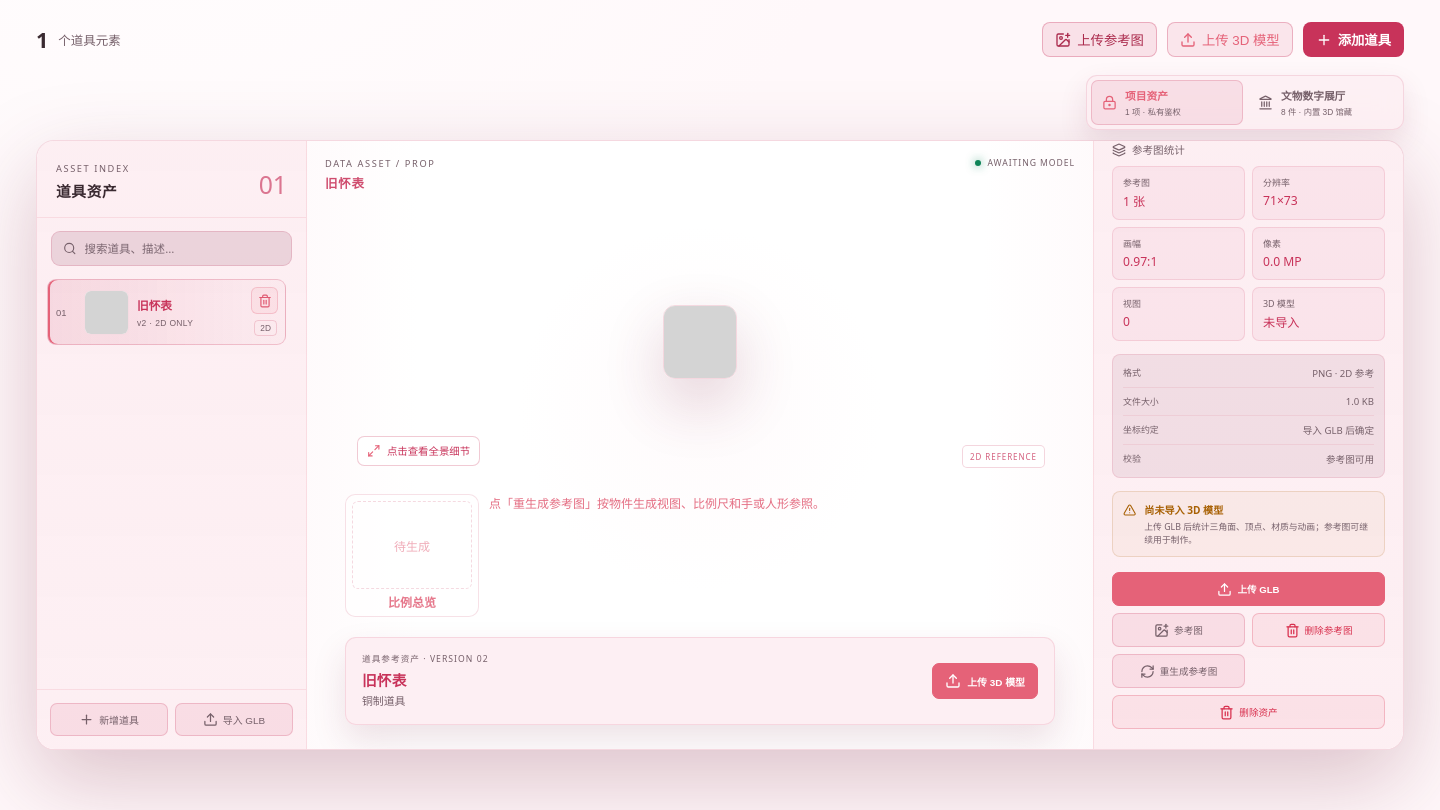
Test: ElementLibraryPage › deletes a selected reference image while keeping its asset available
(page scrolled)
What coordinates should you click on to do the following:
click the button "删除参考图"
I would click on:
 (1318, 630)
Its box is [1252,614,1385,648].
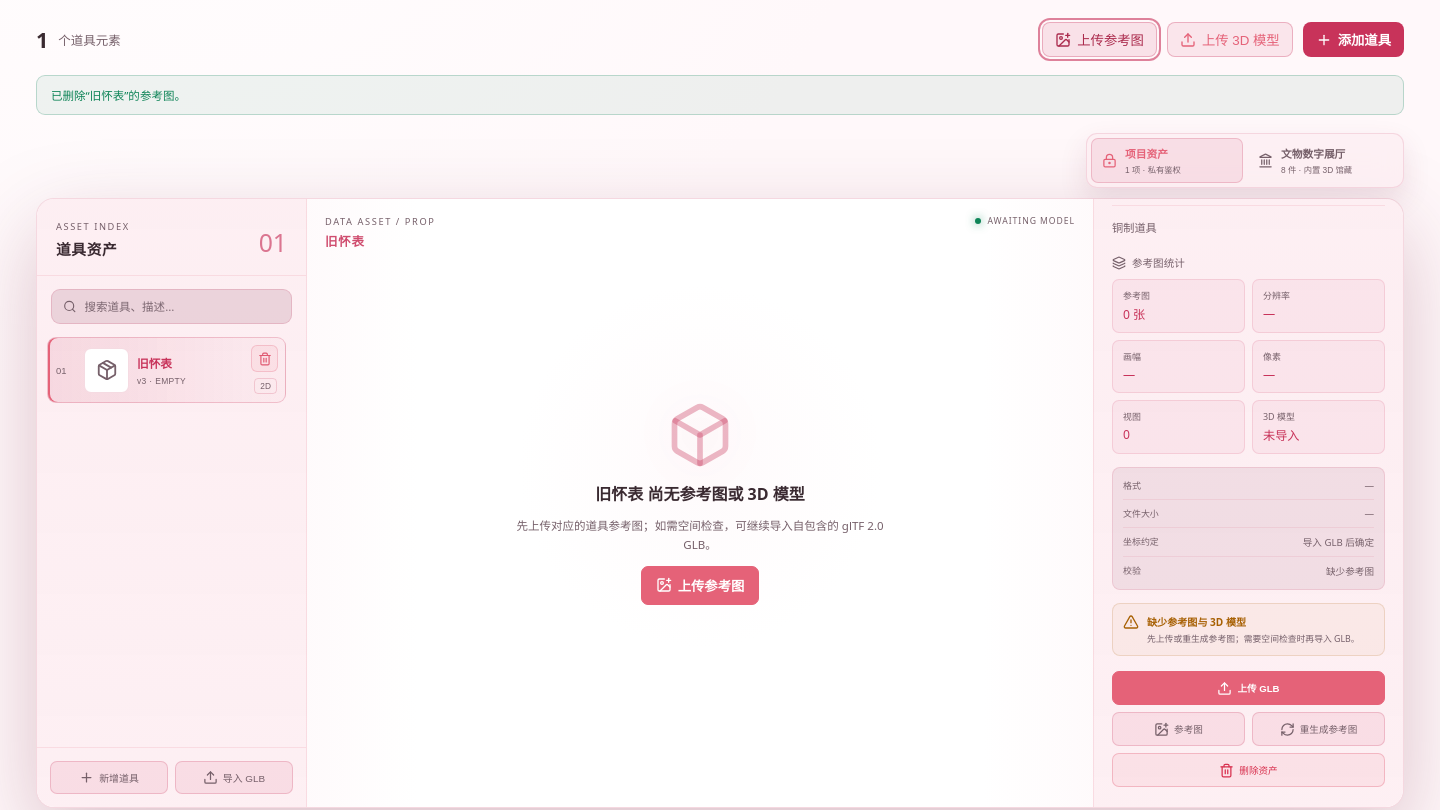
Expected: the text "旧怀表" is shown, [137,357,172,370]
Expected: the message shows "已删除“旧怀表”的参考图", [51,88,186,103]
